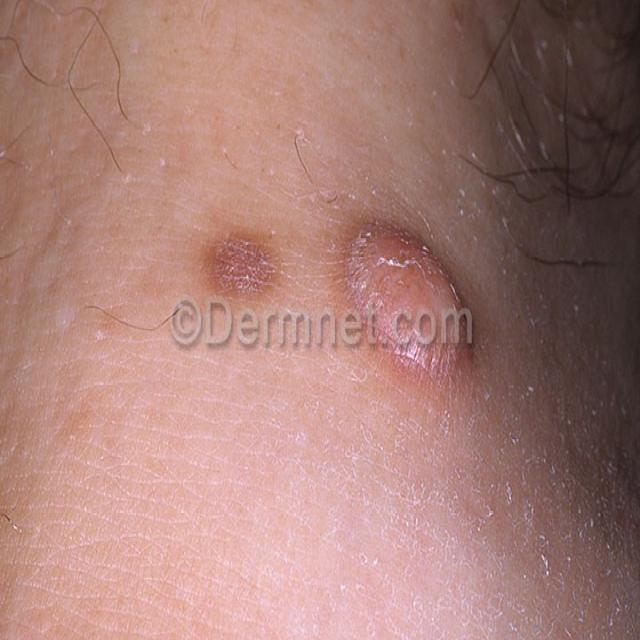Eczema: (345, 219, 468, 379), (193, 228, 277, 310)
